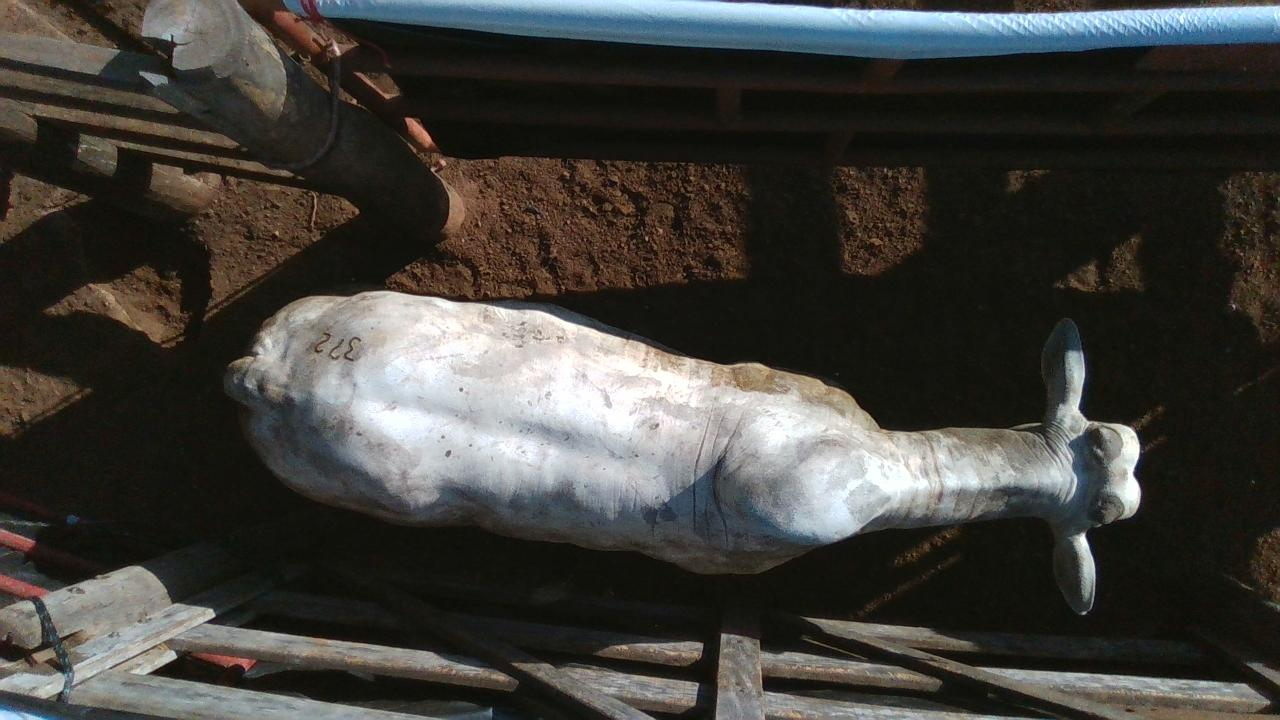cattle: (221, 287, 1143, 616)
